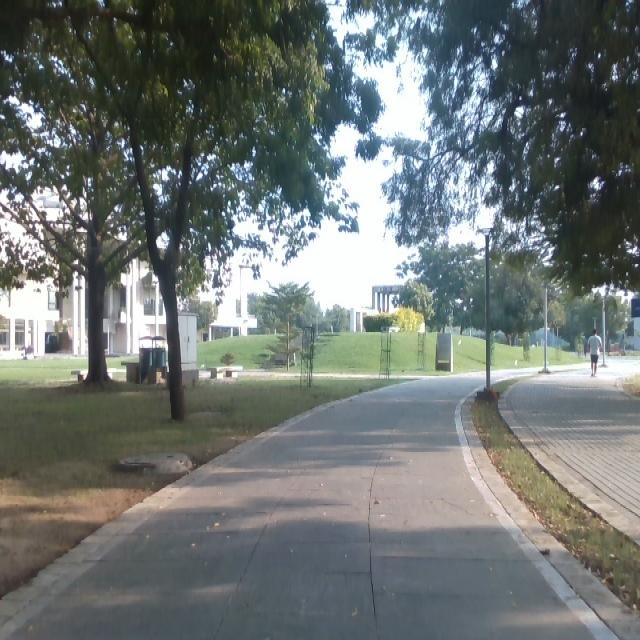lane: (7, 371, 596, 640)
